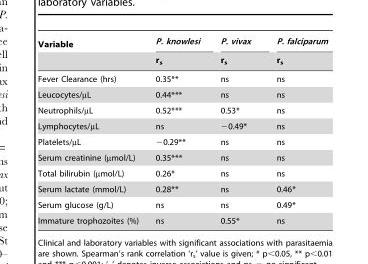table: (37, 36, 328, 224)
table column: (37, 36, 146, 224), (263, 36, 328, 224), (146, 36, 210, 224), (210, 36, 263, 224)
table column header: (37, 36, 328, 69)
table row: (37, 51, 328, 69), (37, 164, 328, 181), (37, 69, 328, 85), (37, 85, 328, 101), (37, 101, 328, 117), (37, 117, 328, 133), (37, 148, 328, 164), (37, 196, 328, 212), (37, 36, 328, 51), (37, 133, 328, 148), (37, 181, 328, 196), (37, 212, 328, 224)
table spanning cell: (37, 36, 146, 69), (263, 36, 328, 69), (146, 36, 210, 69), (210, 36, 263, 69)
